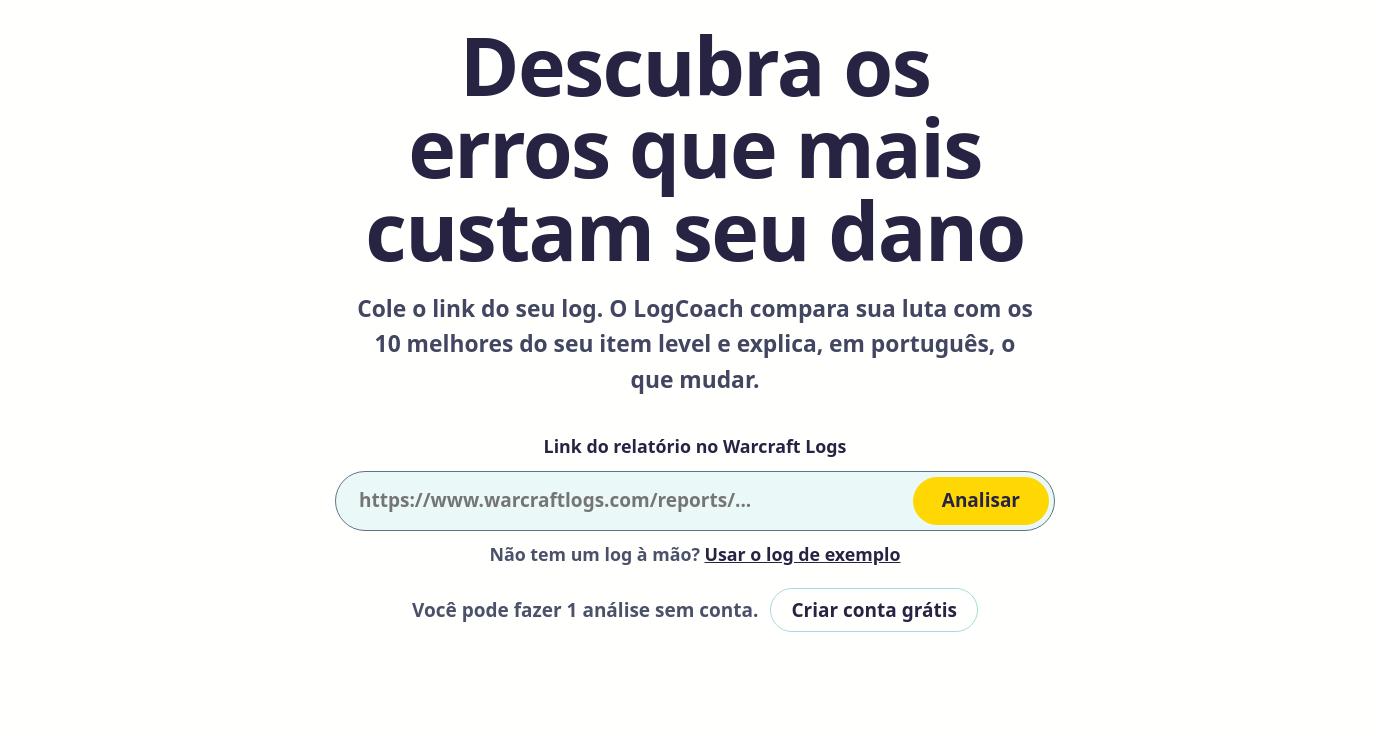
Test: Home › link de outro site: explica o formato esperado e não navega
The image size is (1378, 742).
Type "https://exemplo.com/reports/ABCDEF123456" into the field labelled "Link do relatório no Warcraft Logs" at (623, 501), box [341,479,905,523]
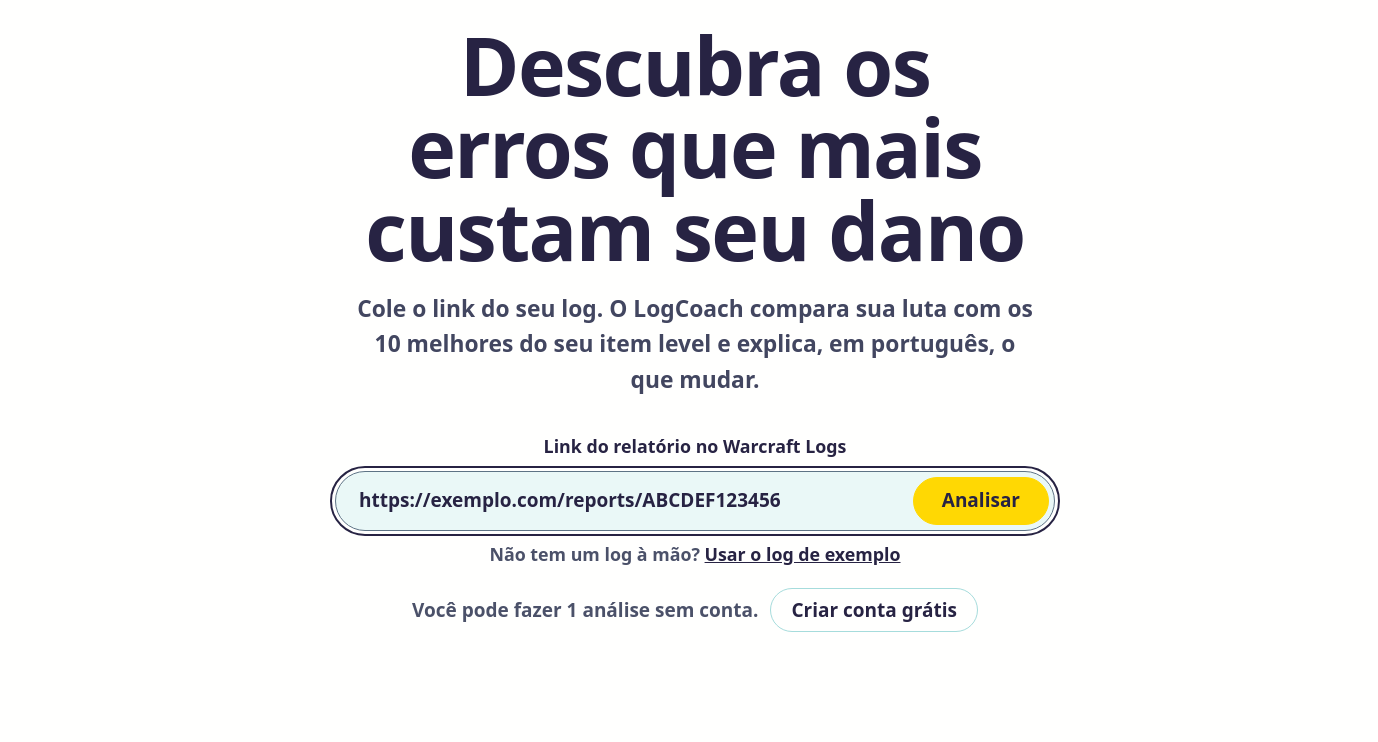
Click the button "Analisar" at (981, 501), box [913,477,1049,525]
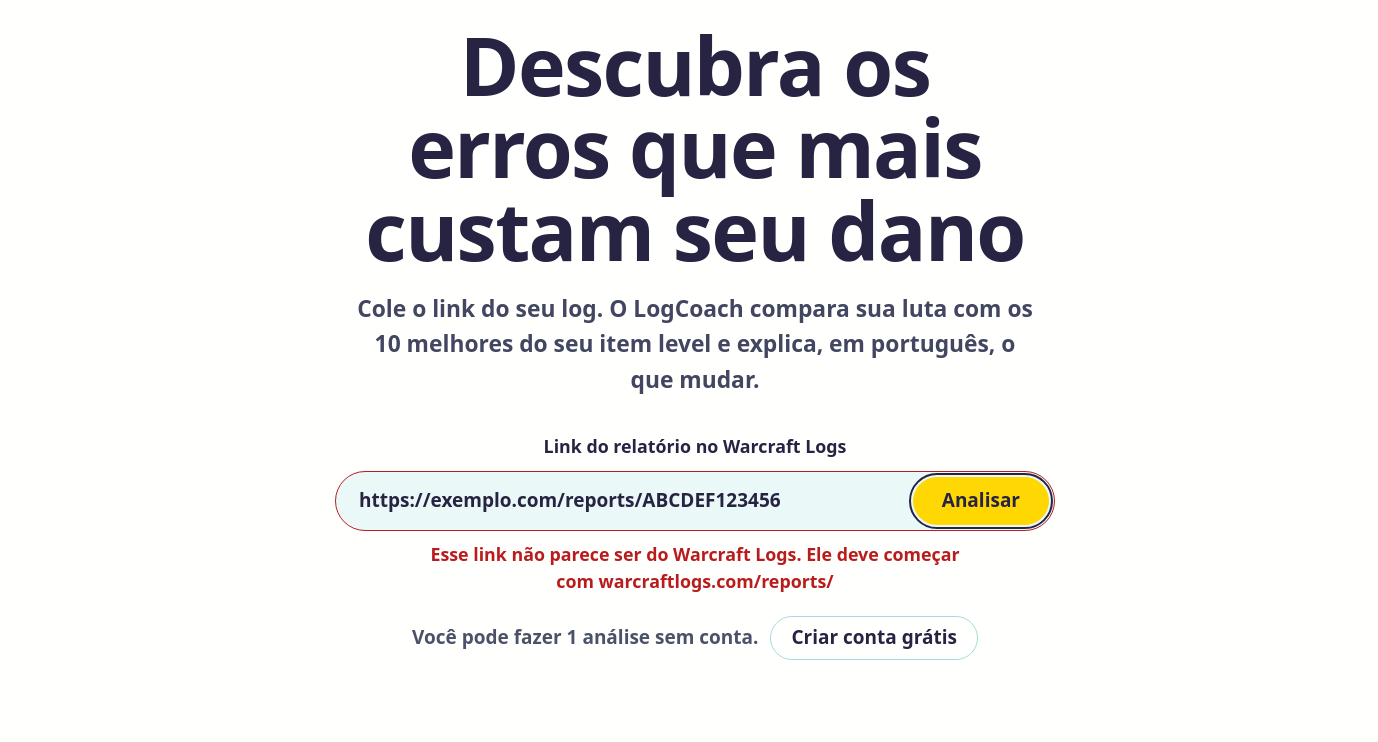
Expected: the text "Esse link não parece ser do Warcraft Logs. Ele deve começar com warcraftlogs.com/reports/" is shown, [430,542,960,593]
